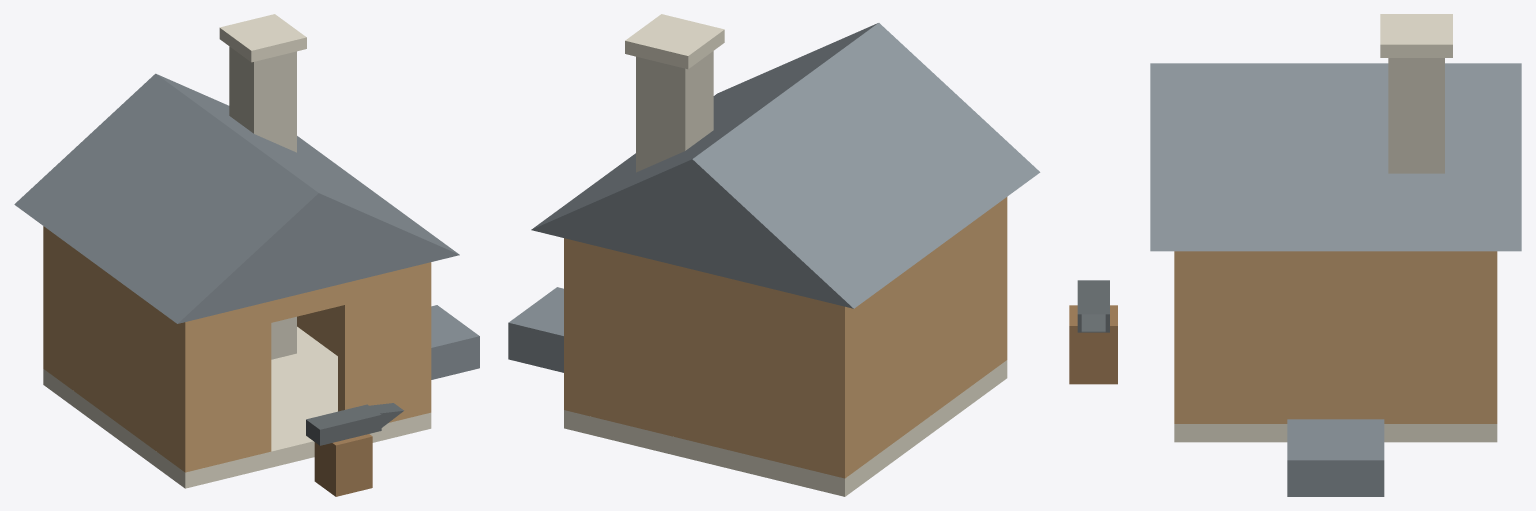
Rendered from blacksmith.glb.
3 views of the same model, side by side, from view 1: azimuth 30°, elevation 25°; view 2: azimuth 150°, elevation 25°; view 3: azimuth 270°, elevation 25° (orthographic). The views are drawn at different scales.
Visible parts, largest first — view 1: blacksmith; view 2: blacksmith; view 3: blacksmith.
Boxes of the visible parts, x1,y1,x2,y2 form: blacksmith: (14, 14, 479, 496); blacksmith: (508, 14, 1040, 496); blacksmith: (1069, 14, 1521, 496).
Size of the model in its own units: 5.9 by 5.18 by 5.6.
